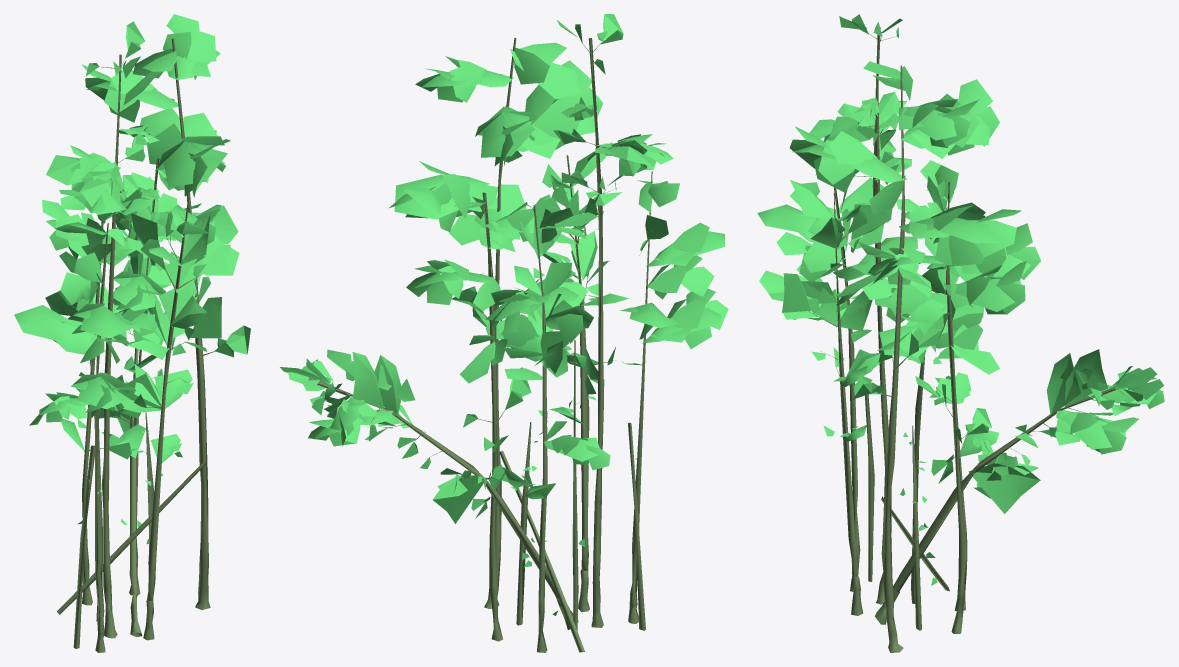
File: Bamboo_Cluster1_LOD1.fbx
The picture shows the model from 3 angles, left to right: view 1: azimuth 30°, elevation 25°; view 2: azimuth 150°, elevation 25°; view 3: azimuth 270°, elevation 25°; orthographic projection.
Parts seen in each view (by area): view 1: Bamboo_Cluster1_LOD1; view 2: Bamboo_Cluster1_LOD1; view 3: Bamboo_Cluster1_LOD1.
Part boxes in pixels (bbox=[...]): Bamboo_Cluster1_LOD1: bbox=[14, 14, 250, 652]; Bamboo_Cluster1_LOD1: bbox=[280, 14, 728, 652]; Bamboo_Cluster1_LOD1: bbox=[757, 14, 1164, 652].
Bounding box in the file's own units: 1415 × 3075 × 1867.
